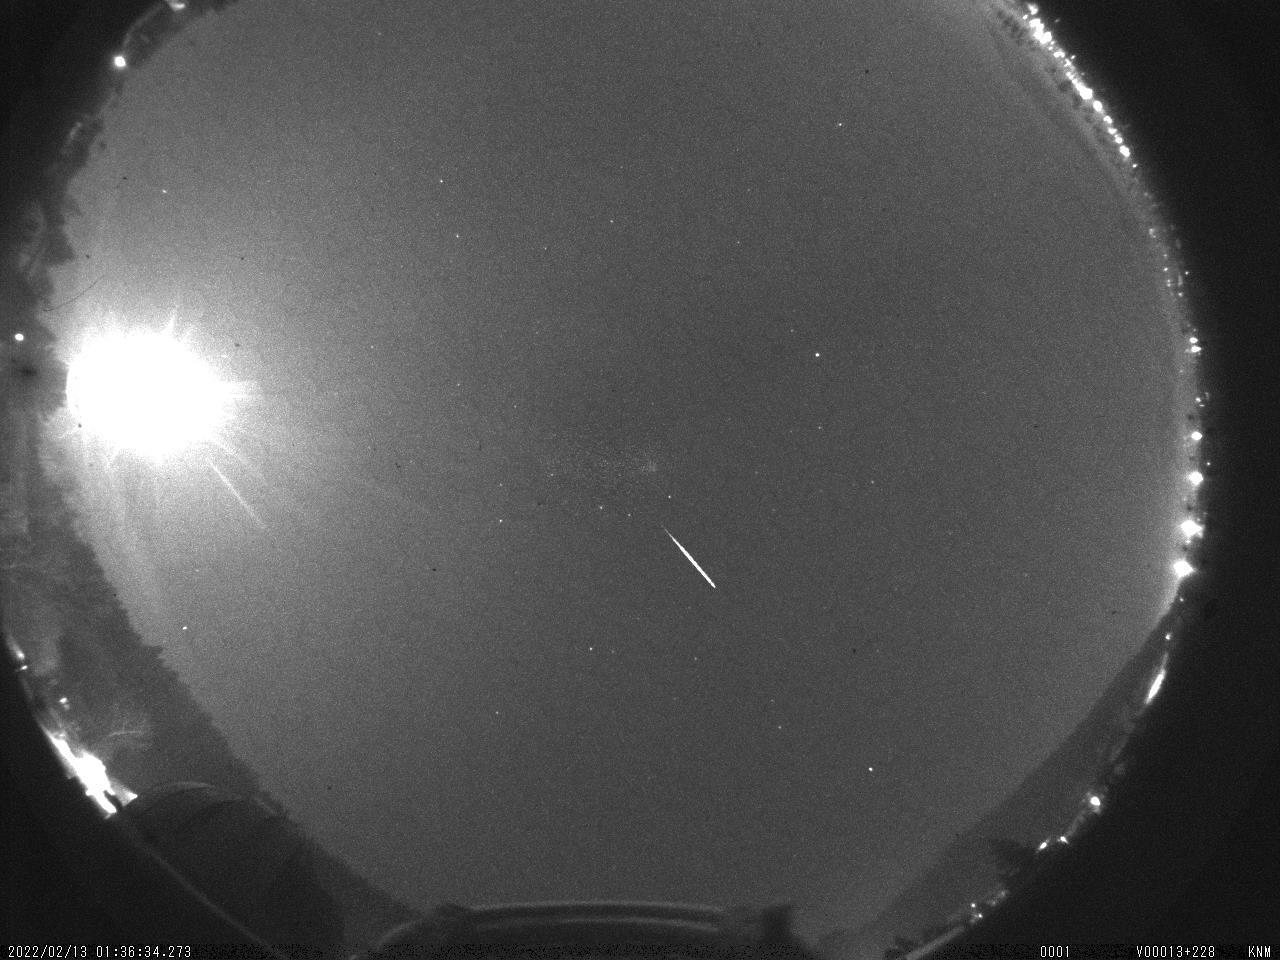Meteor: (661, 525, 717, 590)
